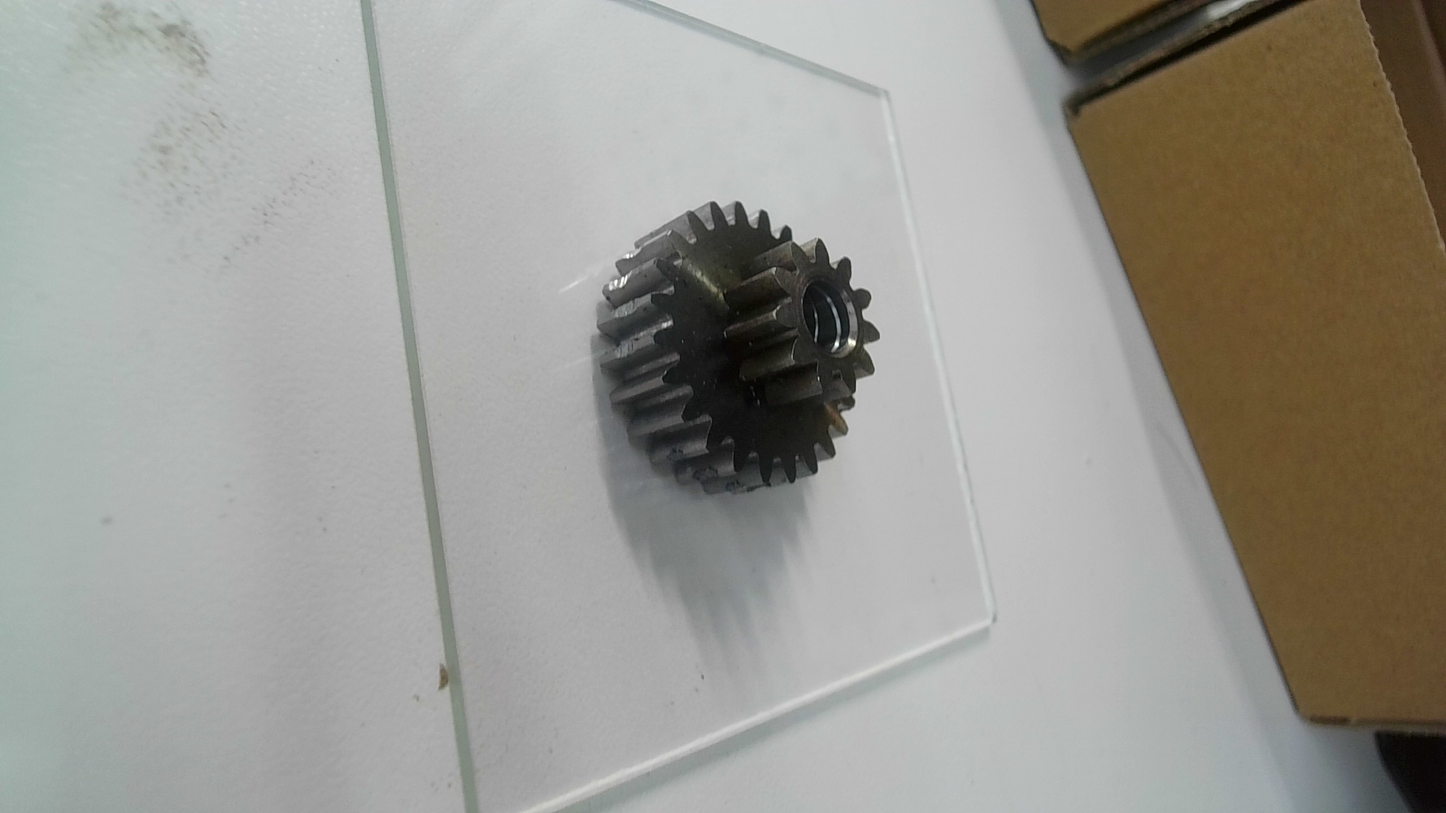gear: (589, 196, 885, 506)
